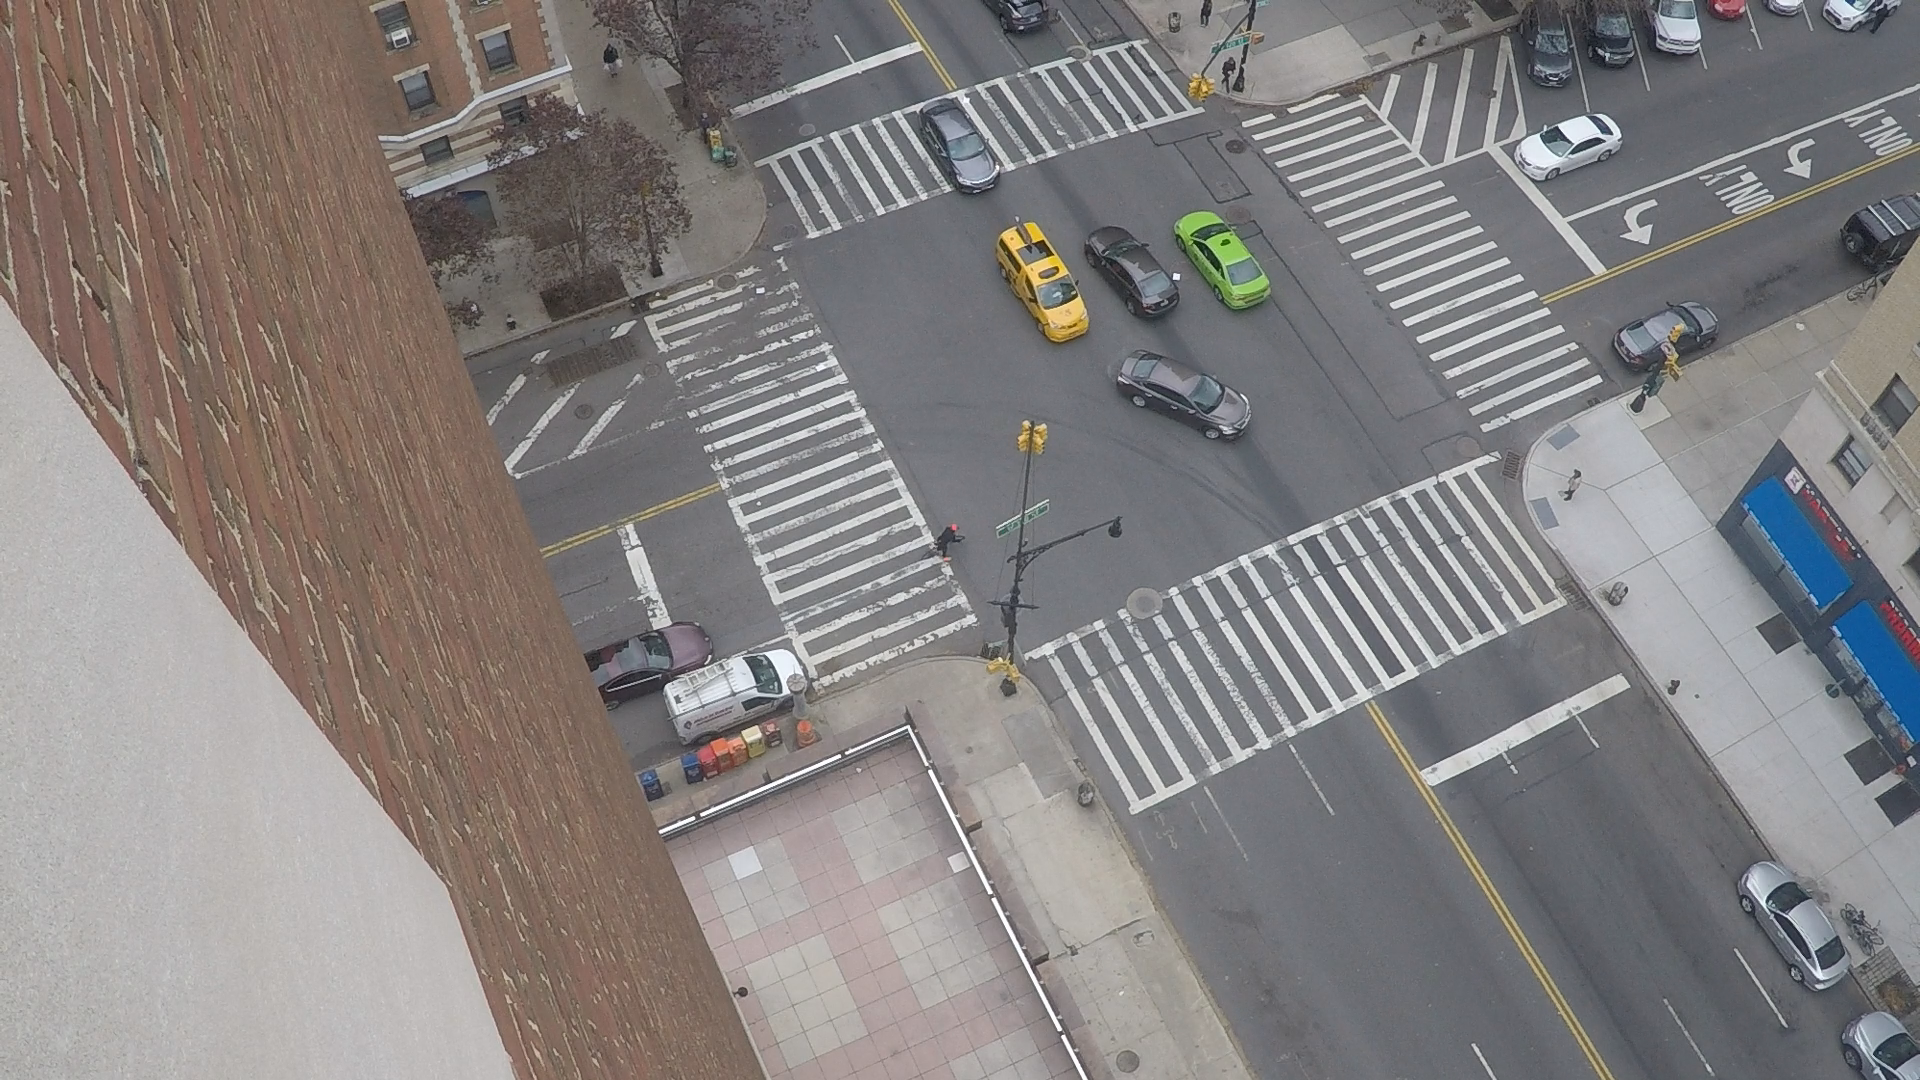Car: (1642, 1, 1652, 38), (1916, 191, 1919, 209), (1128, 310, 1136, 315), (1526, 48, 1527, 64), (1043, 0, 1047, 5), (1174, 232, 1175, 238), (1010, 277, 1012, 282)
Pedestrian: (608, 41, 612, 45), (948, 557, 951, 558)
